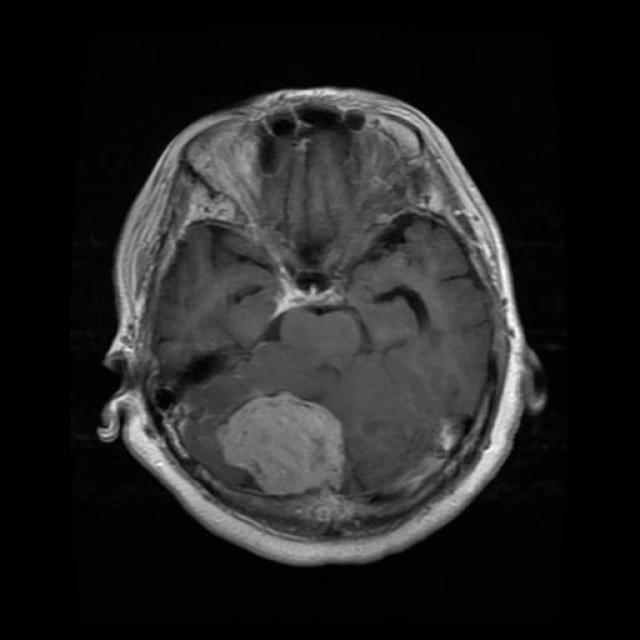Meningioma: (216, 392, 345, 494)
